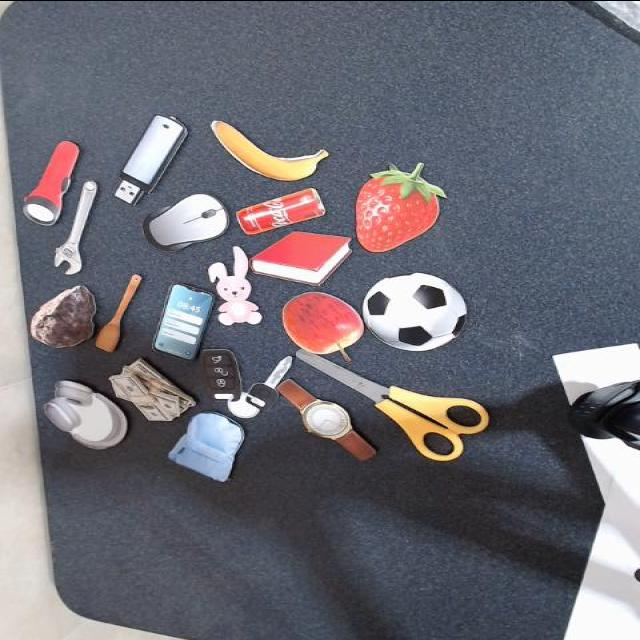Other Objects: (295, 348, 489, 461), (356, 268, 476, 358), (274, 368, 378, 471), (27, 374, 143, 456), (196, 120, 327, 188), (107, 112, 193, 208), (14, 139, 99, 228), (165, 406, 259, 483), (133, 188, 236, 257), (47, 179, 116, 277), (281, 291, 364, 362), (107, 357, 196, 422), (151, 282, 215, 361), (205, 245, 261, 326), (28, 284, 97, 348), (235, 187, 325, 235), (92, 272, 143, 353)
